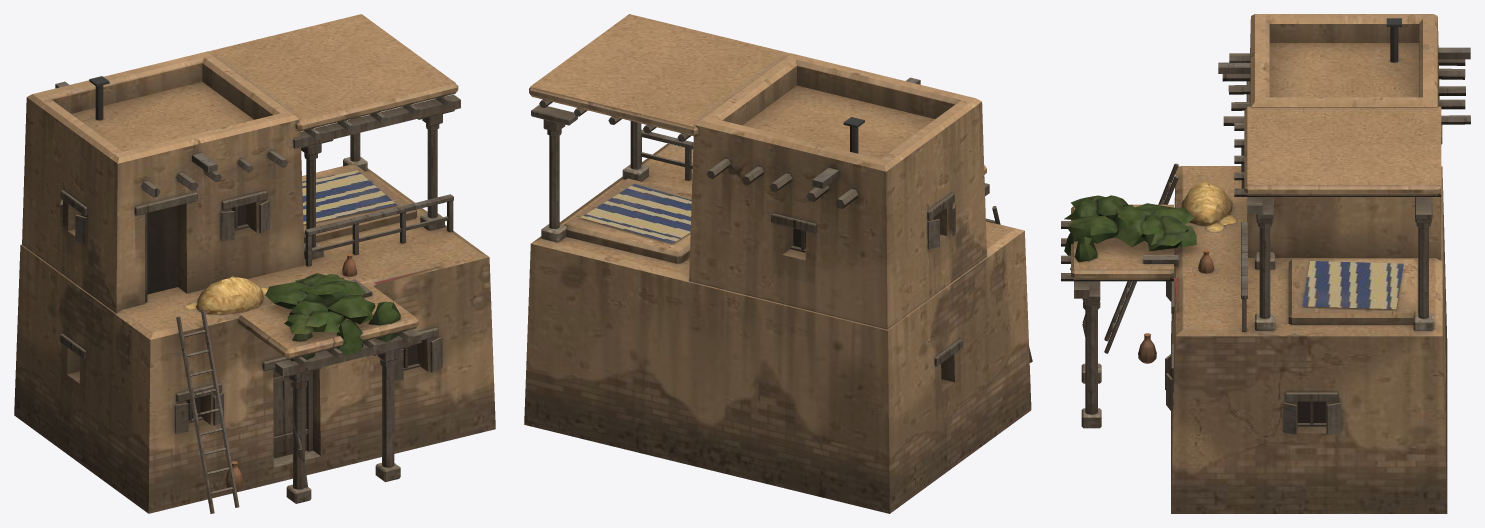
3 views of the same model, side by side, from view 1: azimuth 30°, elevation 25°; view 2: azimuth 150°, elevation 25°; view 3: azimuth 270°, elevation 25° (orthographic). The views are drawn at different scales.
Parts seen in each view (by area): view 1: oh_d; view 2: oh_d; view 3: oh_d.
Part boxes in pixels (bbox=[...]): oh_d: bbox=[14, 14, 495, 513]; oh_d: bbox=[524, 14, 1032, 513]; oh_d: bbox=[1061, 14, 1470, 513].
Bounding box in the file's own units: 7.11 × 6.54 × 6.97.
Materials: 1 (1 with a texture image).
